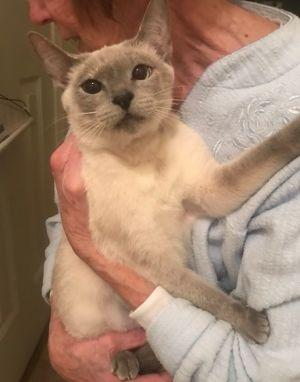siamese: (24, 1, 198, 168)
